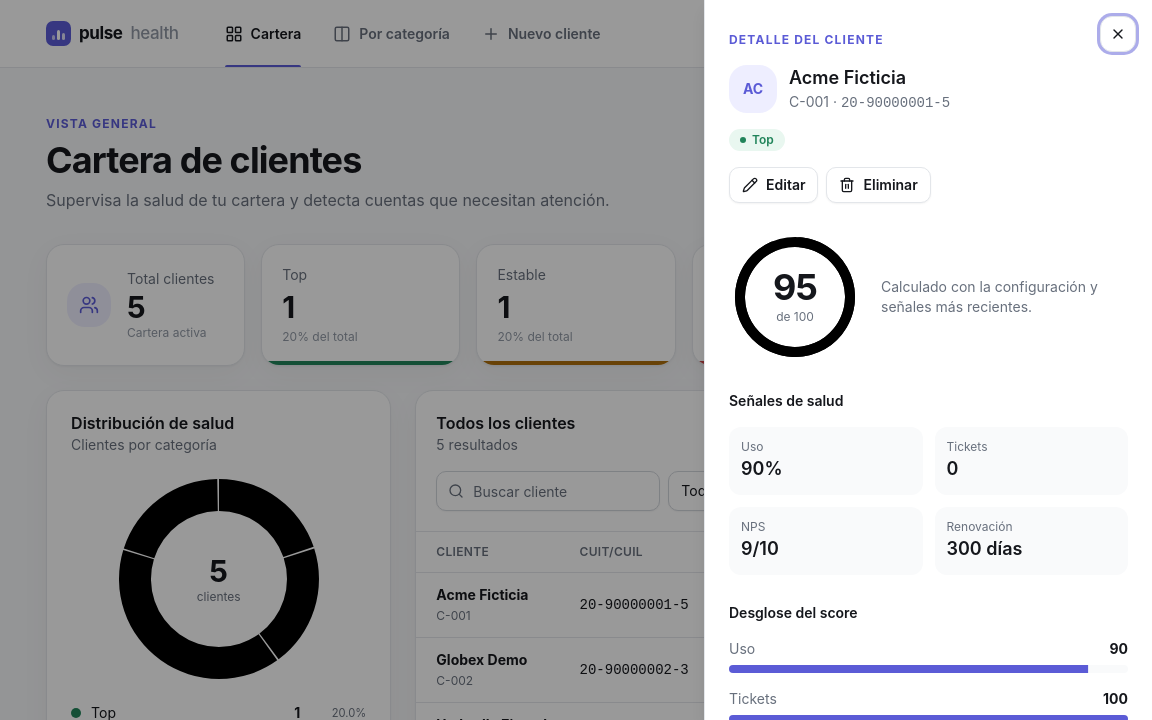
Test: Editar cliente (US3, spec 004) › Cancelar vuelve a modo lectura sin guardar
Click the button "Editar" at [774, 185], box [729,167,818,203]
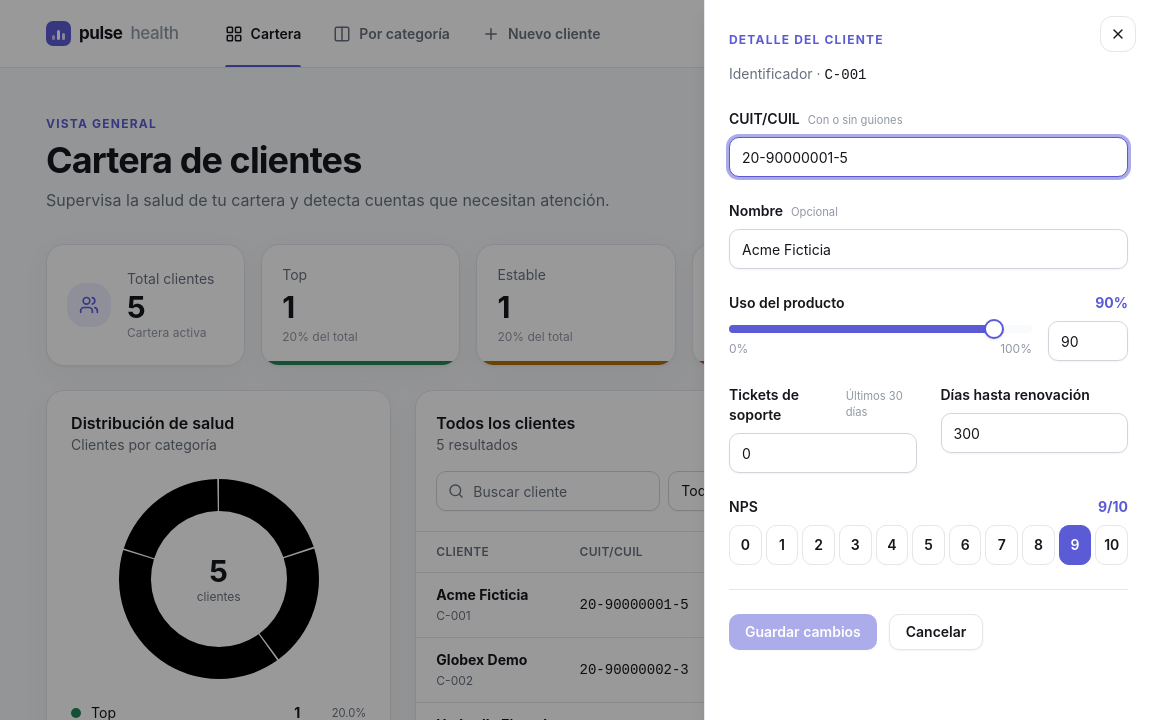
Expected: the field labelled "CUIT/CUIL" is shown, [729,137,1128,177]
Click the radio button named "NPS 4" at [892, 545], box [876,525,908,565]
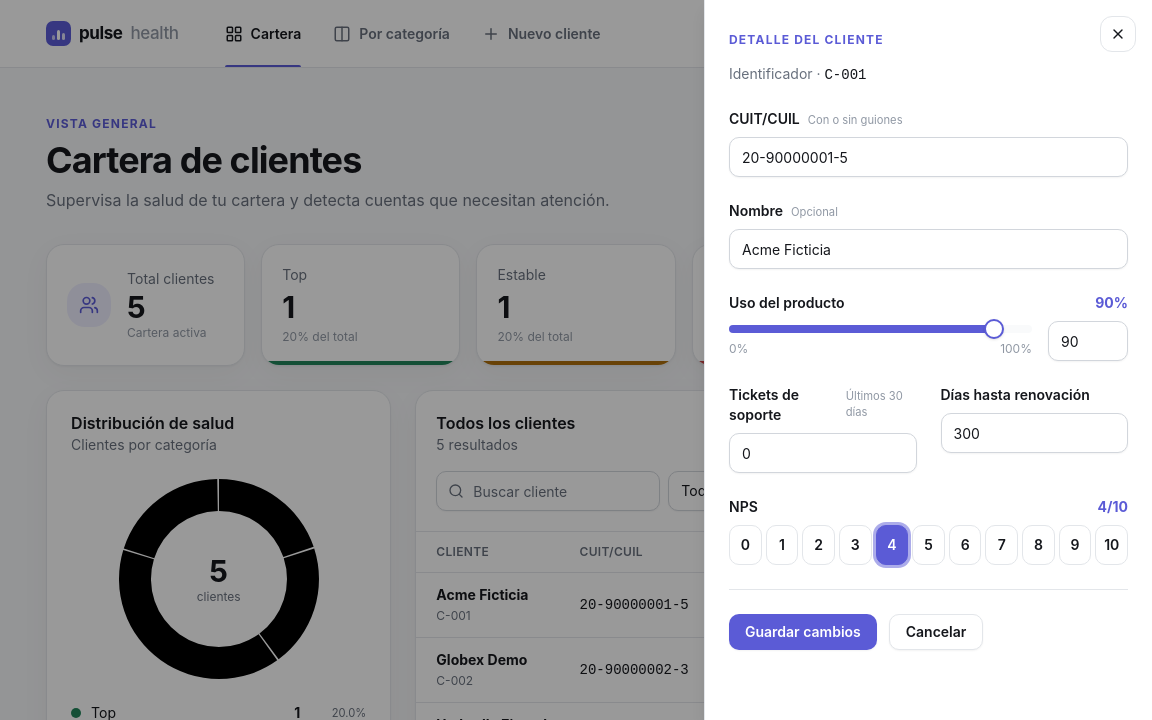
Click the button "Cancelar" at [936, 632], box [889,614,983,650]
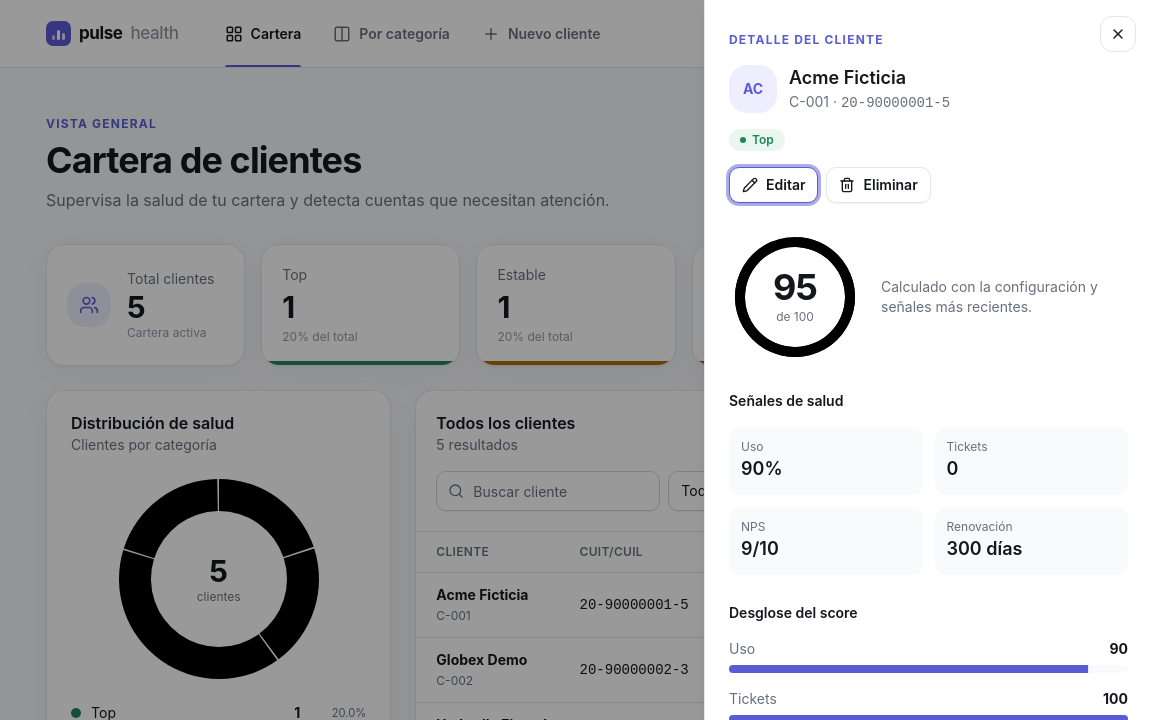
Expected: the button "Editar" is shown, [729,167,818,203]
